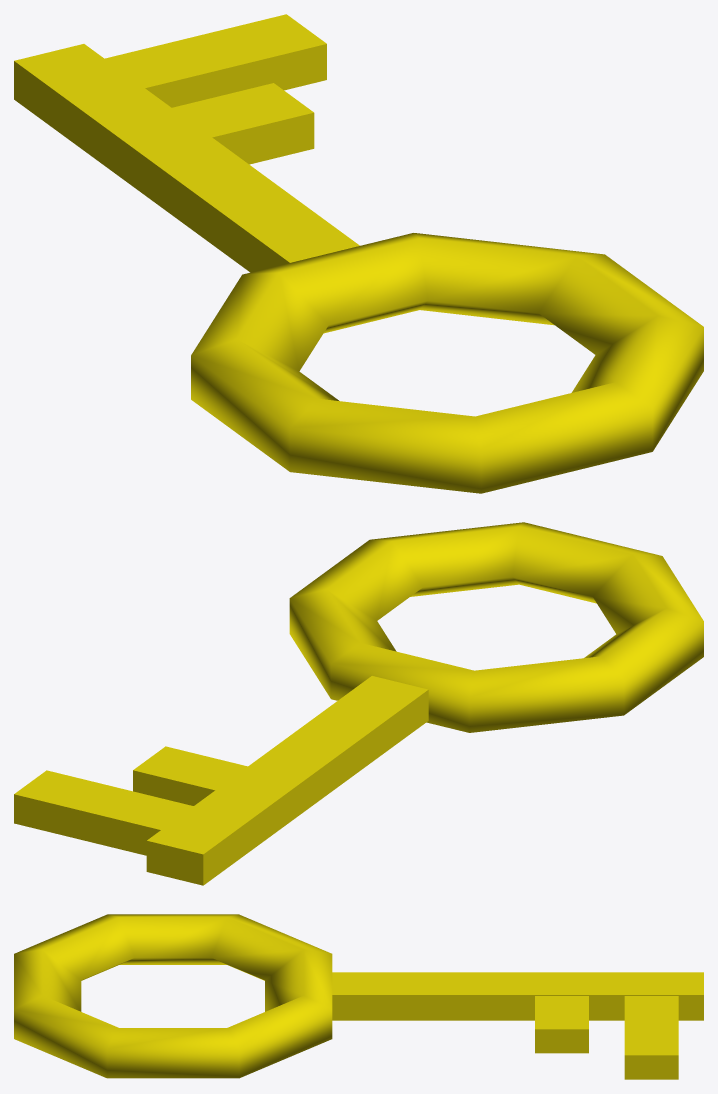
The model's file is Key_MESH.fbx.
The picture shows the model from 3 angles, top to bottom: view 1: azimuth 30°, elevation 25°; view 2: azimuth 150°, elevation 25°; view 3: azimuth 270°, elevation 25°; orthographic projection. The views are drawn at different scales.
Parts seen in each view (by area): view 1: polySurface6; view 2: polySurface6; view 3: polySurface6.
Part boxes in pixels (box(x1,y1,x2,y2)): polySurface6: box(14, 14, 703, 493); polySurface6: box(14, 522, 703, 885); polySurface6: box(14, 914, 703, 1079).
Size of the model in its own units: 67.78 by 10.88 by 143.
